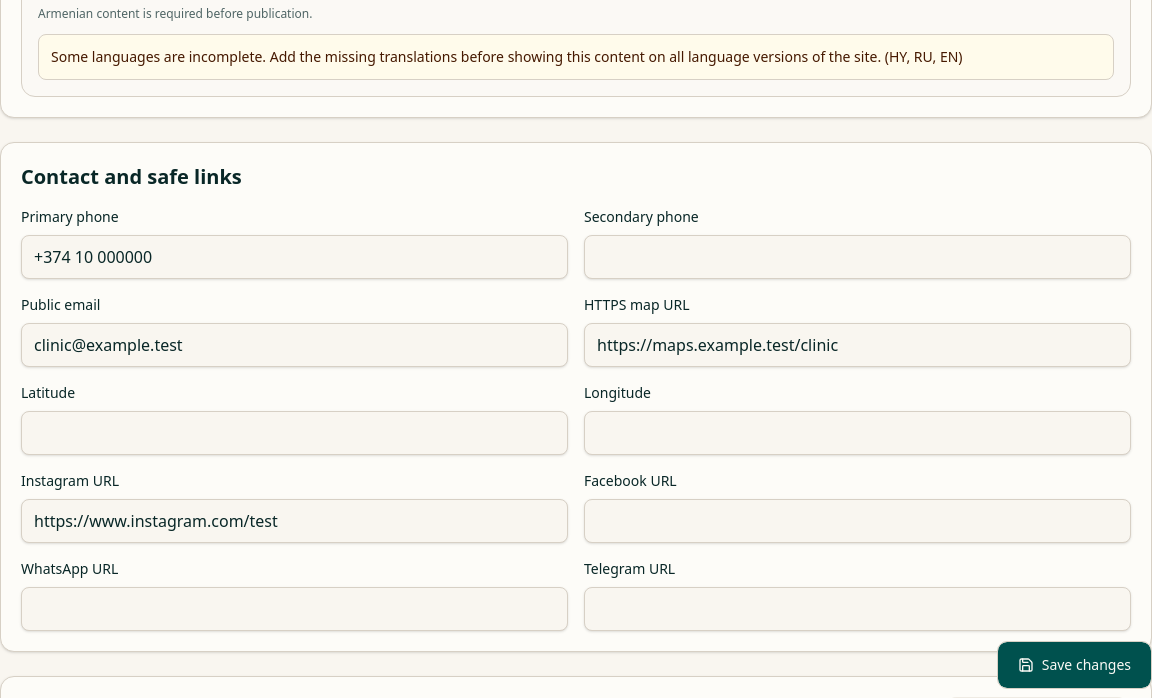
staff clinic settings › rejects credential-bearing and off-platform links before mutation
(page scrolled)
Replace the text in the field labelled "HTTPS map URL" with "https://user:pass@maps.example.test/clinic": (858, 345) x1=584 y1=323 x2=1131 y2=367
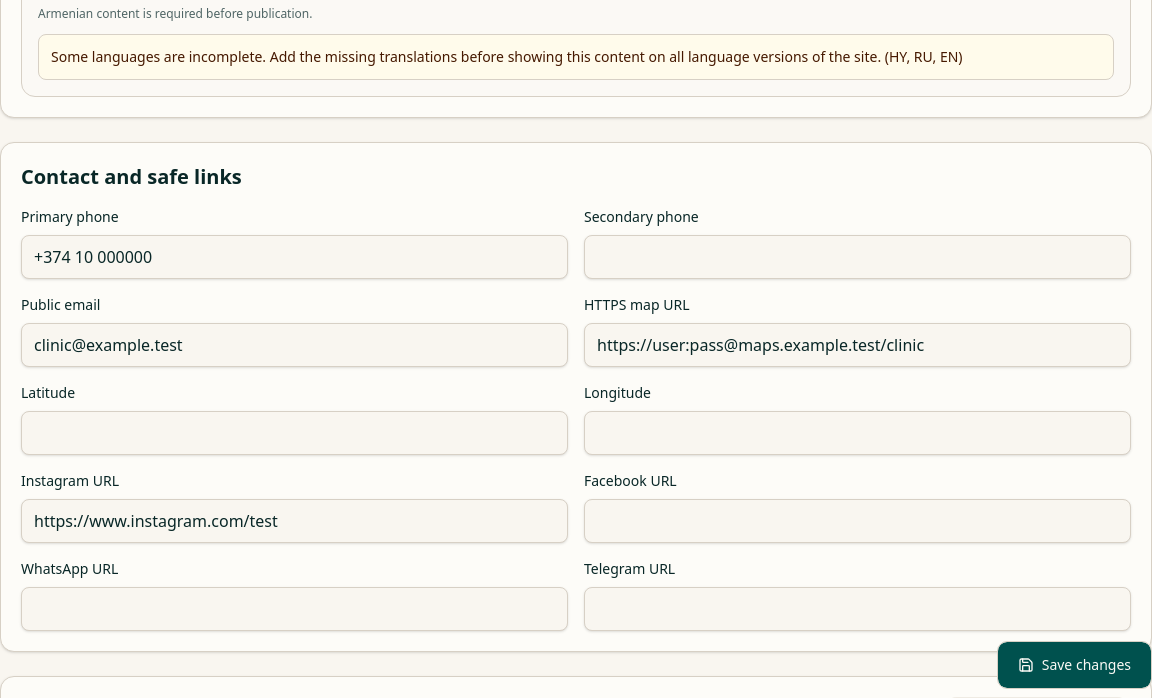
Replace the text in the field labelled "Instagram URL" with "https://evil.example/instagram": (294, 521) x1=21 y1=499 x2=568 y2=543
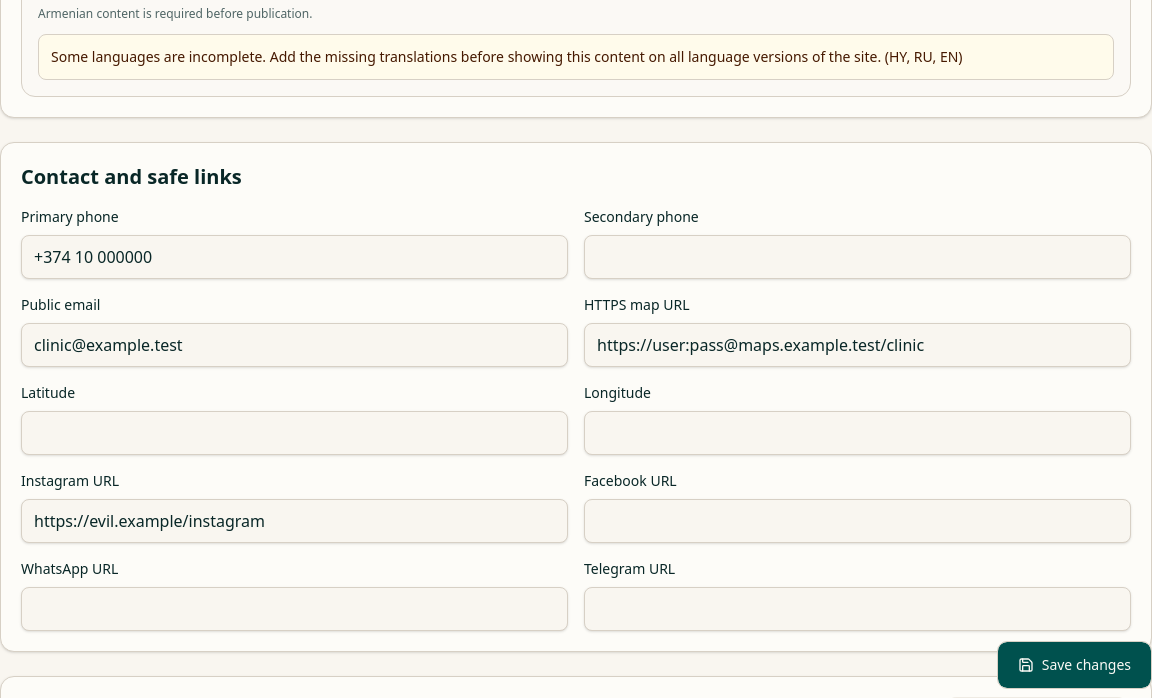
Click the button "Save changes": (1074, 665) x1=997 y1=641 x2=1151 y2=689
(page scrolled)
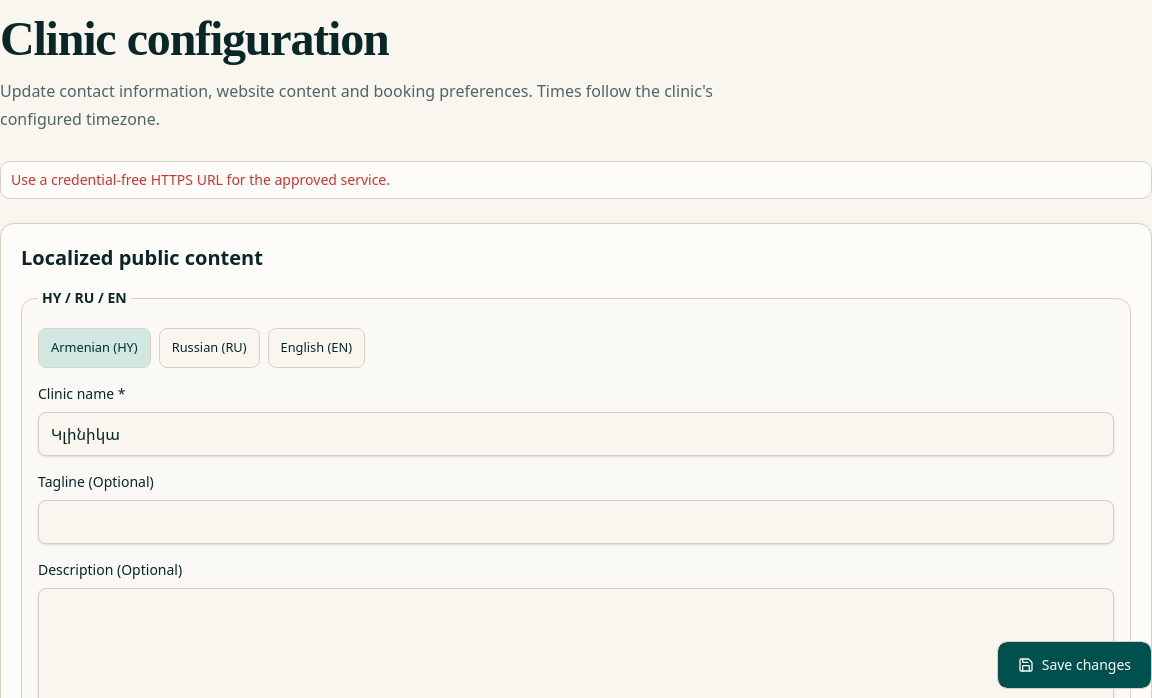
Expected: the text "Use a credential-free HTTPS URL for the approved service." is shown, x1=11 y1=170 x2=390 y2=189
